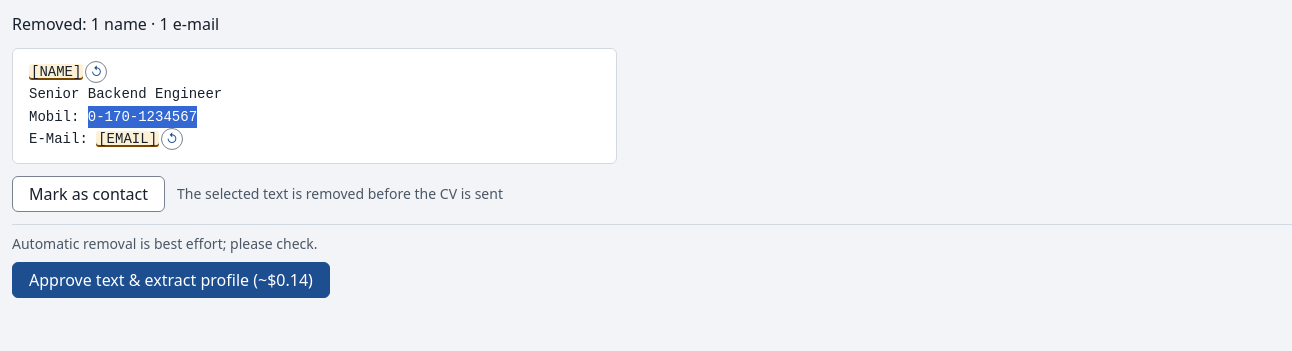
Test: TextReview › a refused edit says so and keeps the stored set
Press the mouse on the button "Mark as contact" at [89, 194], box left=12, top=176, right=165, bottom=212
Click the button "Mark as contact".
click(89, 194)  # box left=12, top=176, right=165, bottom=212
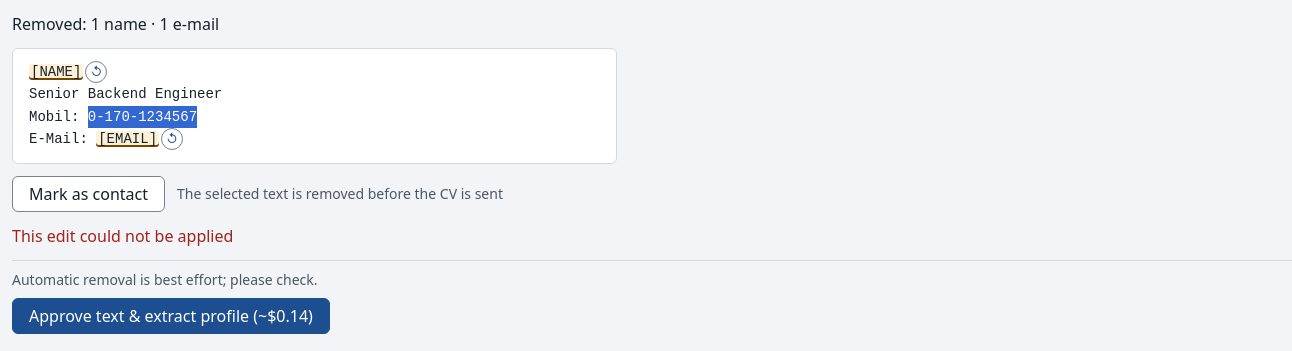
expect the message reads "This edit could not be applied": met, box left=12, top=225, right=233, bottom=247
